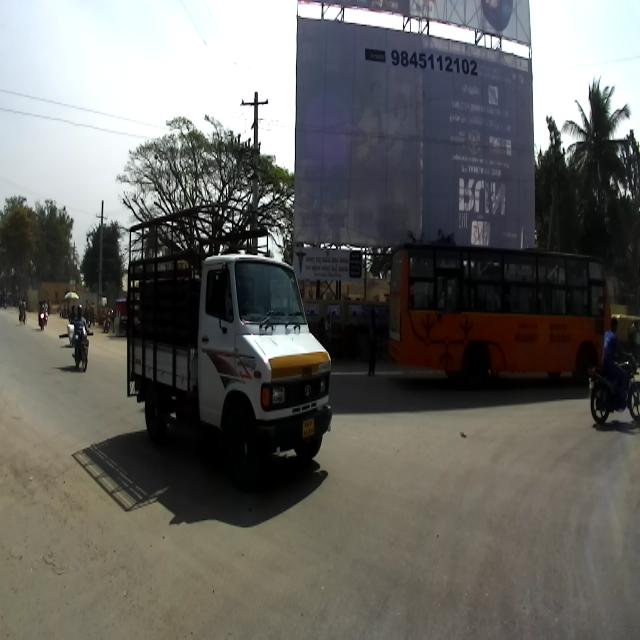bus ahead at: (381, 228, 615, 392)
truck ahead at: (121, 217, 329, 479)
